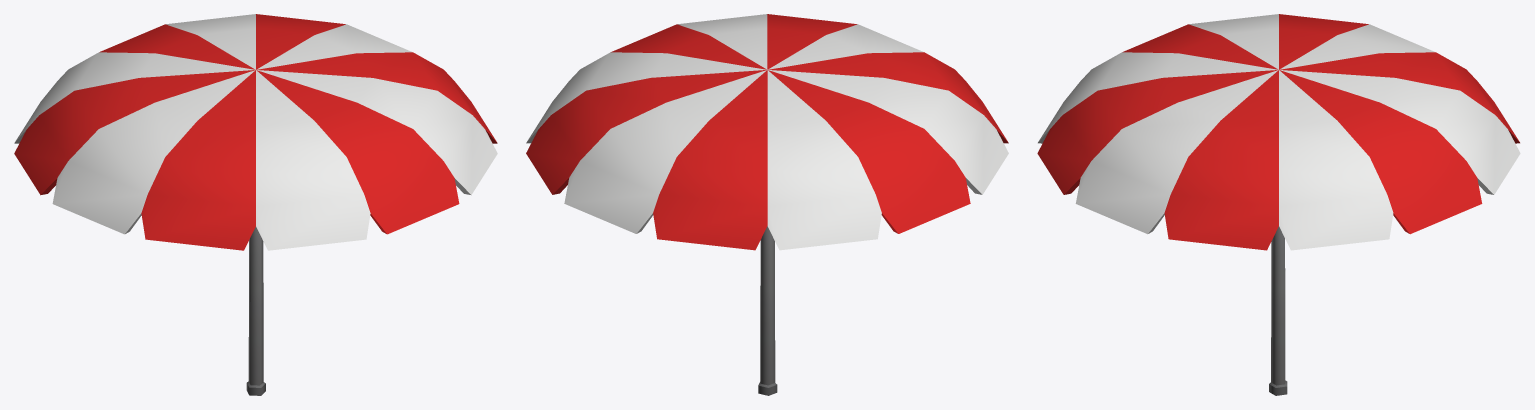
The model's file is Parasol_1_B.glb.
3 views of the same model, side by side, from view 1: azimuth 30°, elevation 25°; view 2: azimuth 150°, elevation 25°; view 3: azimuth 270°, elevation 25° (orthographic).
Visible parts, largest first — view 1: Parasol_1_B; view 2: Parasol_1_B; view 3: Parasol_1_B.
Boxes of the visible parts, <box> form: Parasol_1_B: <box>14,14,497,395</box>; Parasol_1_B: <box>526,14,1008,395</box>; Parasol_1_B: <box>1037,14,1520,395</box>.
Bounding box in the file's own units: 2.22 × 1.63 × 2.22.
Materials: 2 (2 with a texture image).
